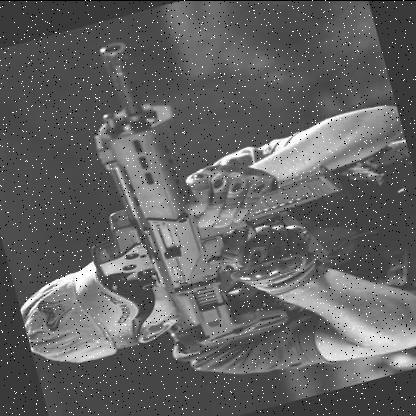rifle: (67, 0, 357, 367)
